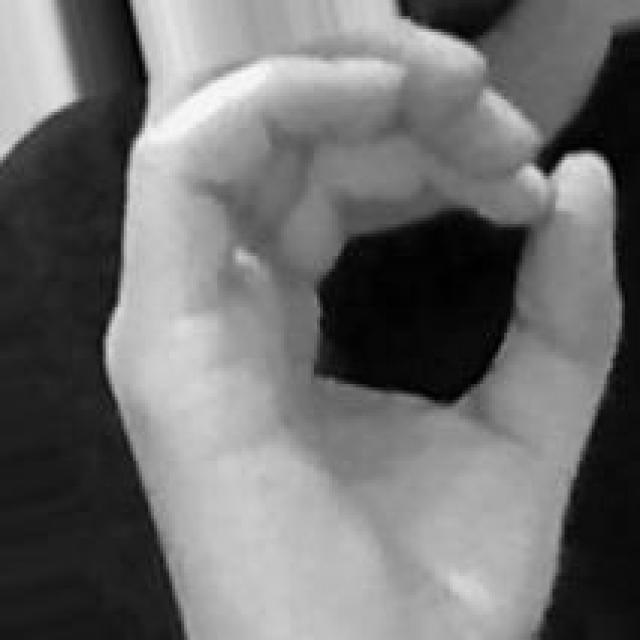O: (100, 21, 627, 640)
